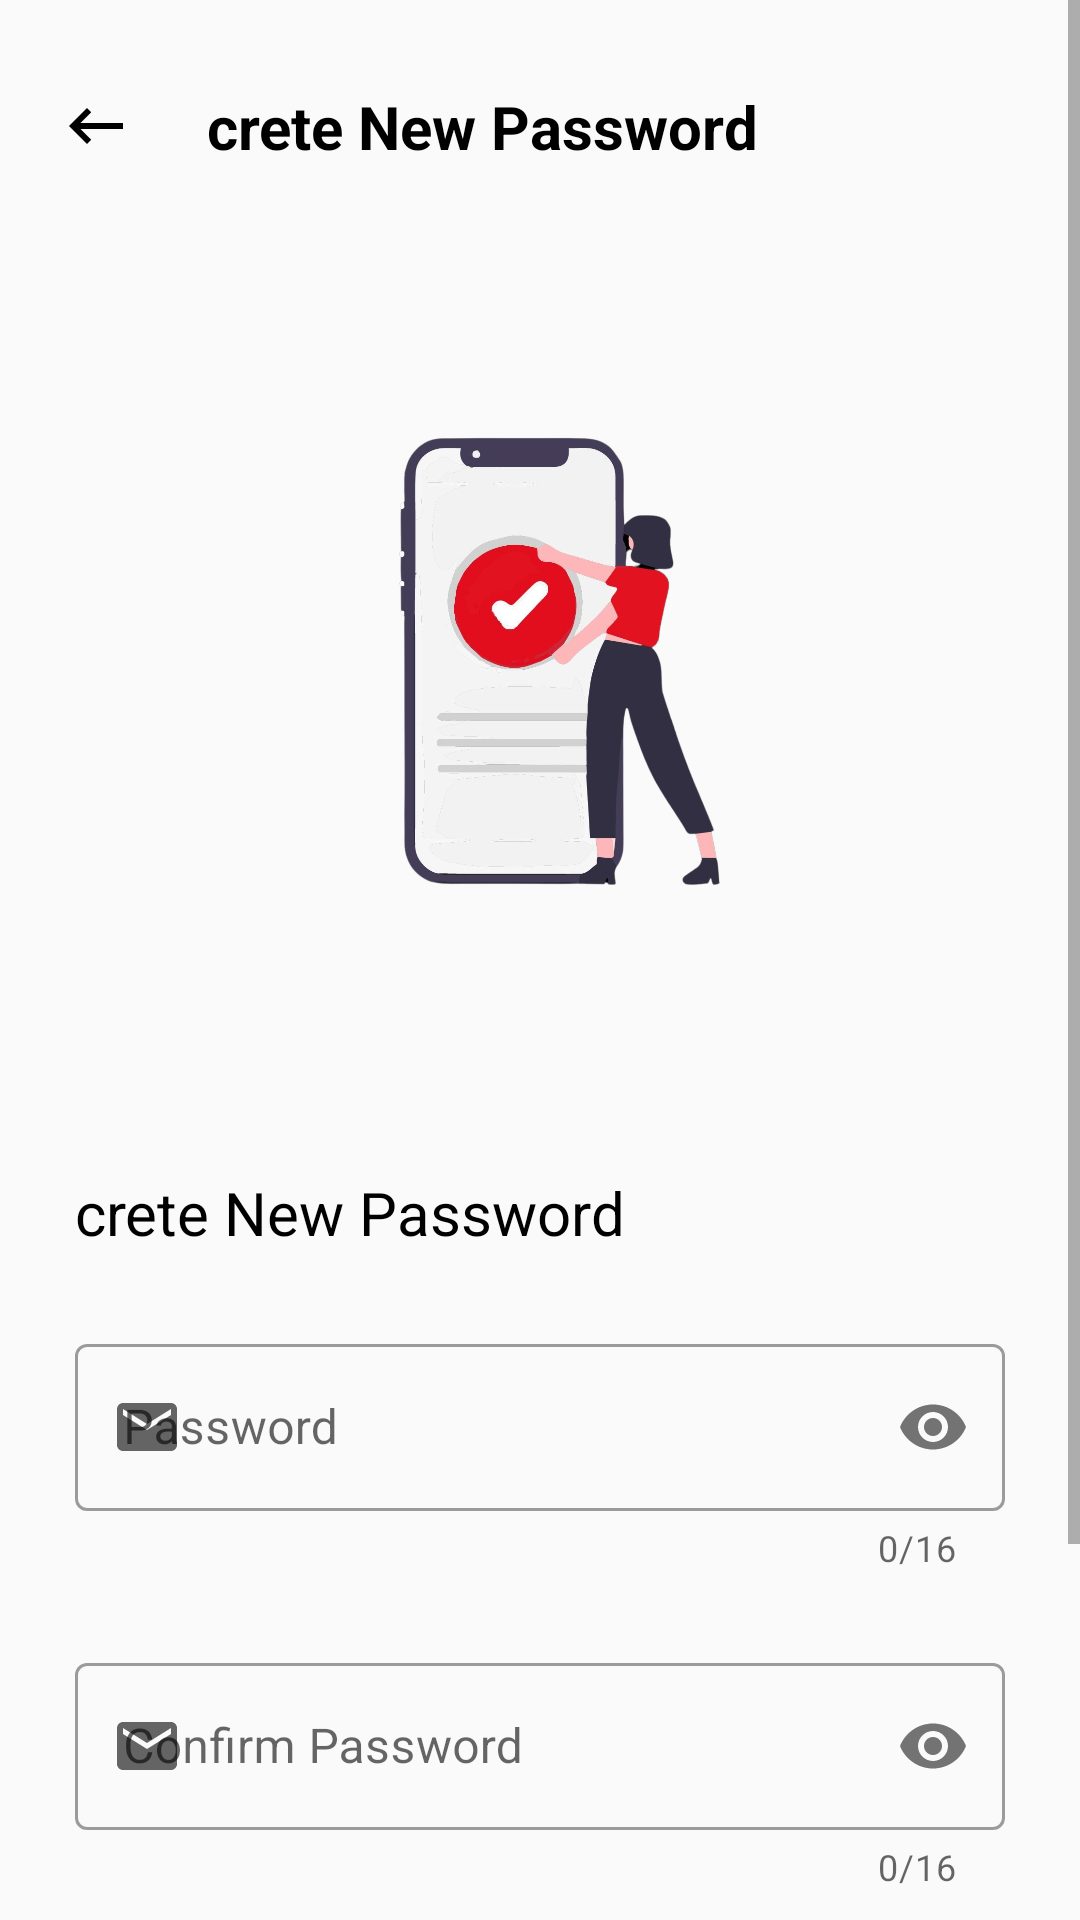

Locate icon controls on the screen. Image size 1080px×1920px, boxes as (x1, y1, x2, y2).
arrow left: (69, 108, 123, 144)
